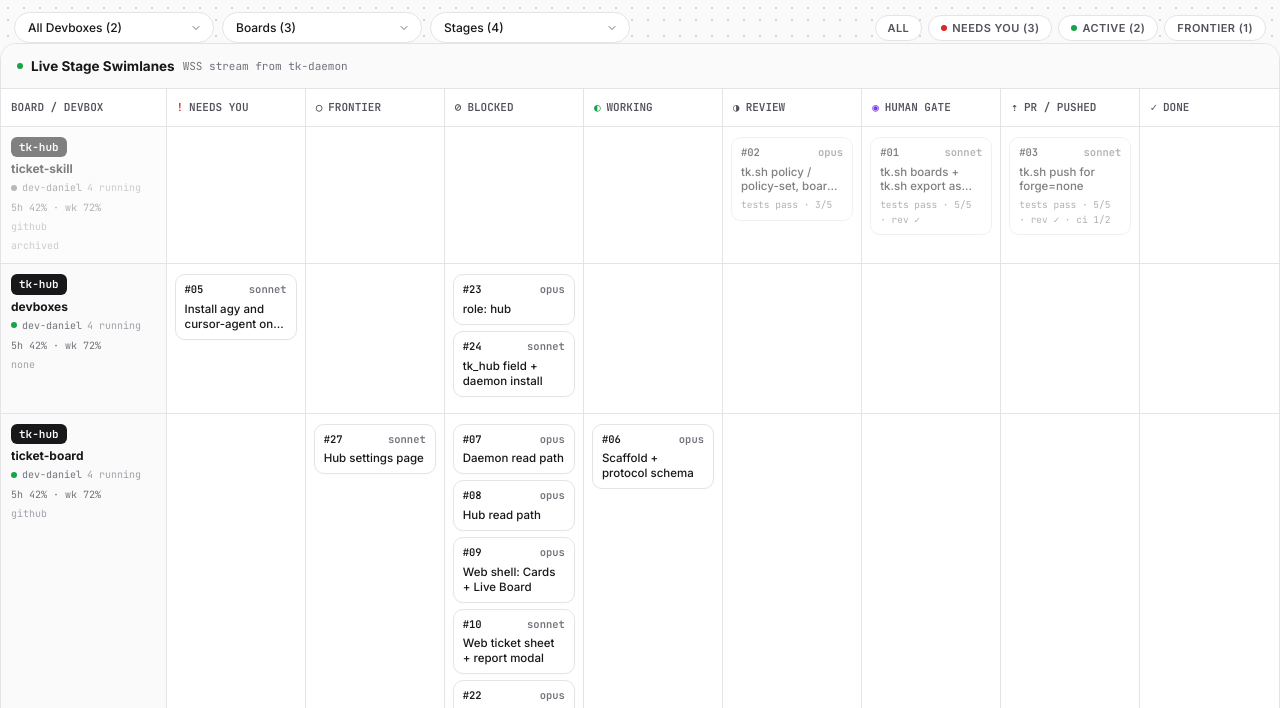
Test: Controls Stage multi-select › drives the Live Board too
The image size is (1280, 708).
Click the button "Stages (4)".
click(530, 28)  # box [430, 12, 630, 43]
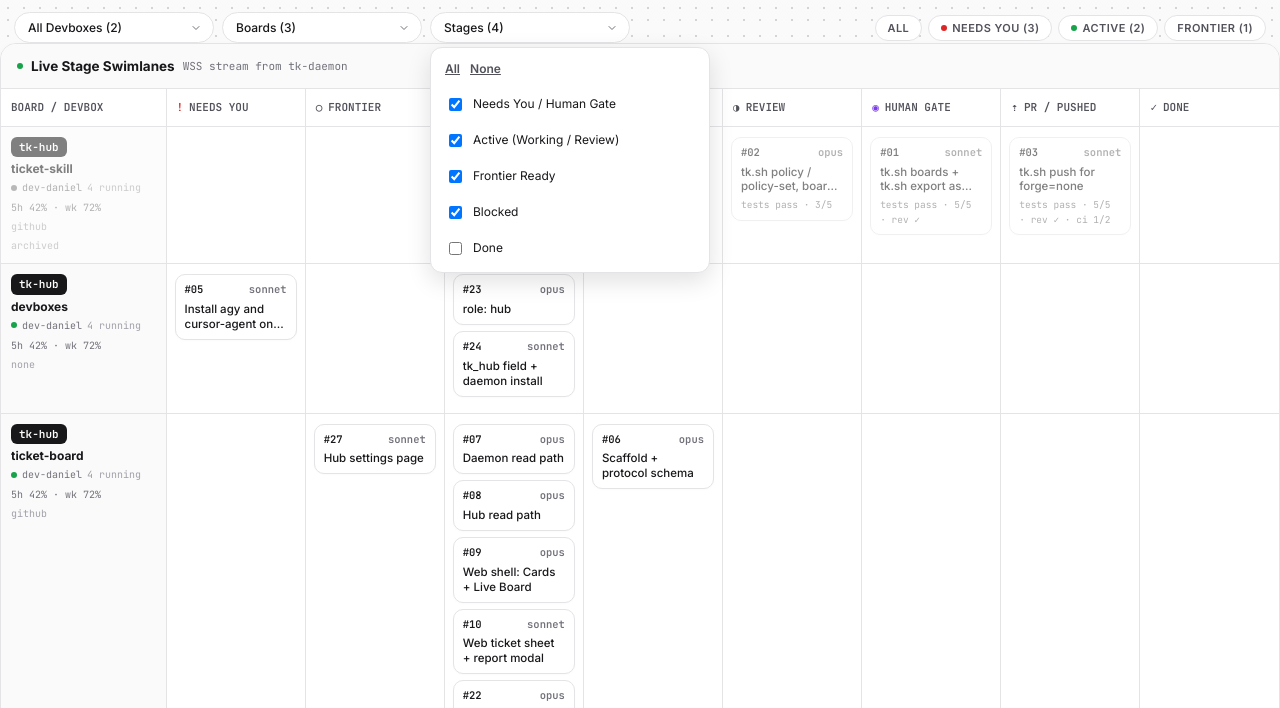
Click the checkbox labelled "Done".
click(456, 248)  # box [449, 242, 462, 254]
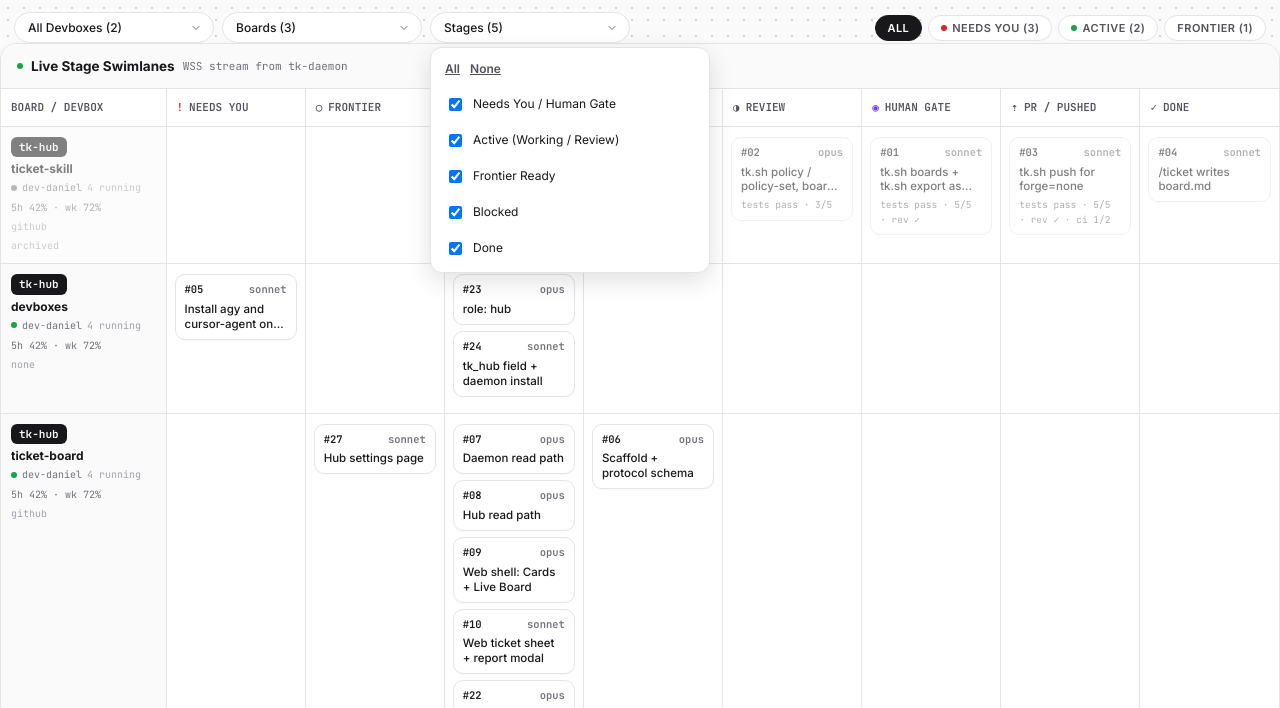
Expected: the button titled "04 " is shown, [1148, 137, 1271, 202]
